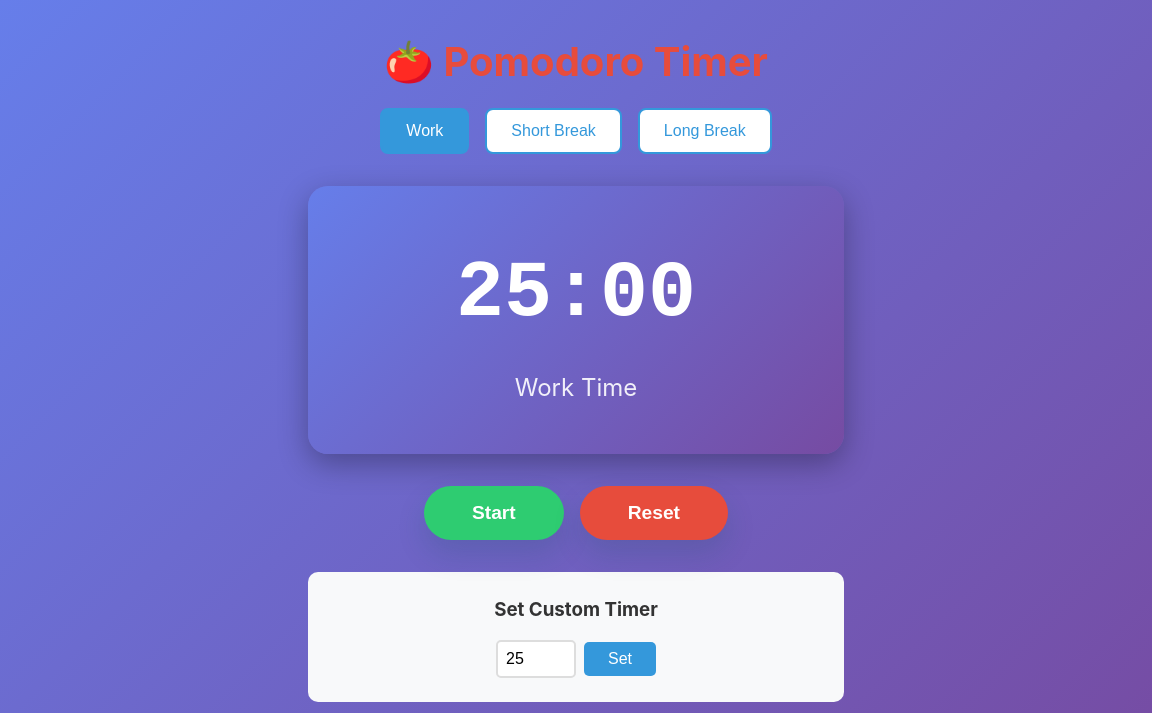
Test: PomodoroTimer break reminders › shows break reminder when a work session completes
This screenshot has width=1152, height=713.
Replace the text in the number field with "1". click: [536, 659]
box: [496,640,576,678]
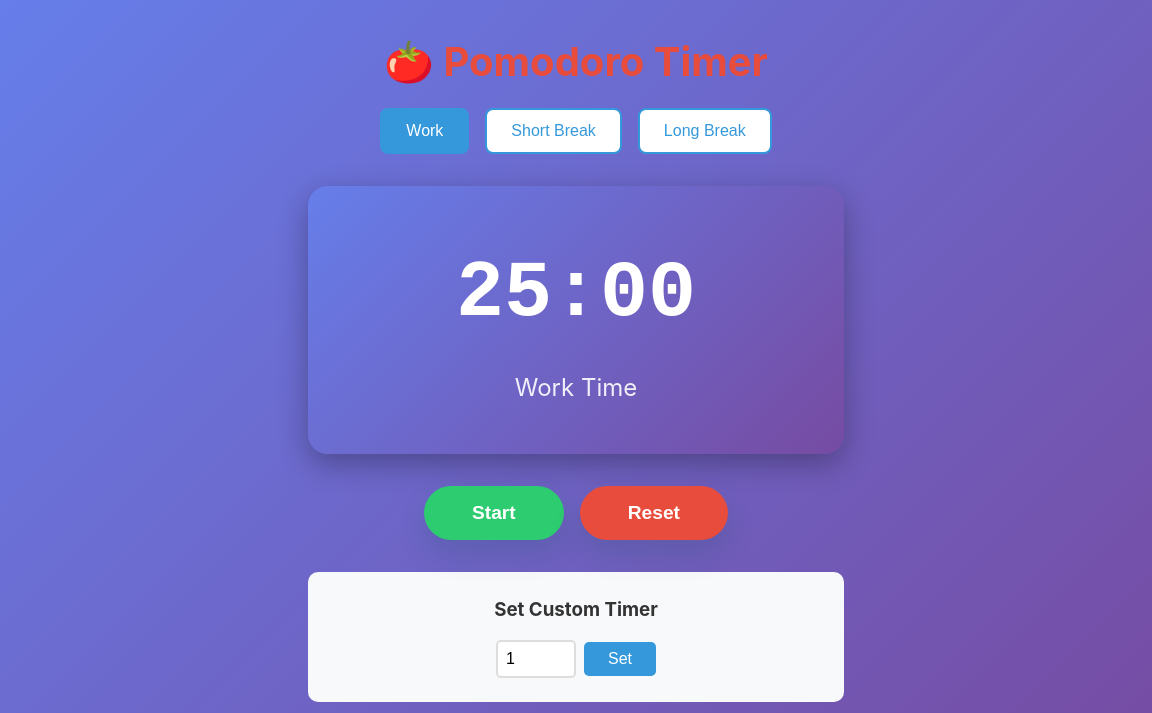
Click the button "Set". click: [620, 659]
box: [584,642,656,676]
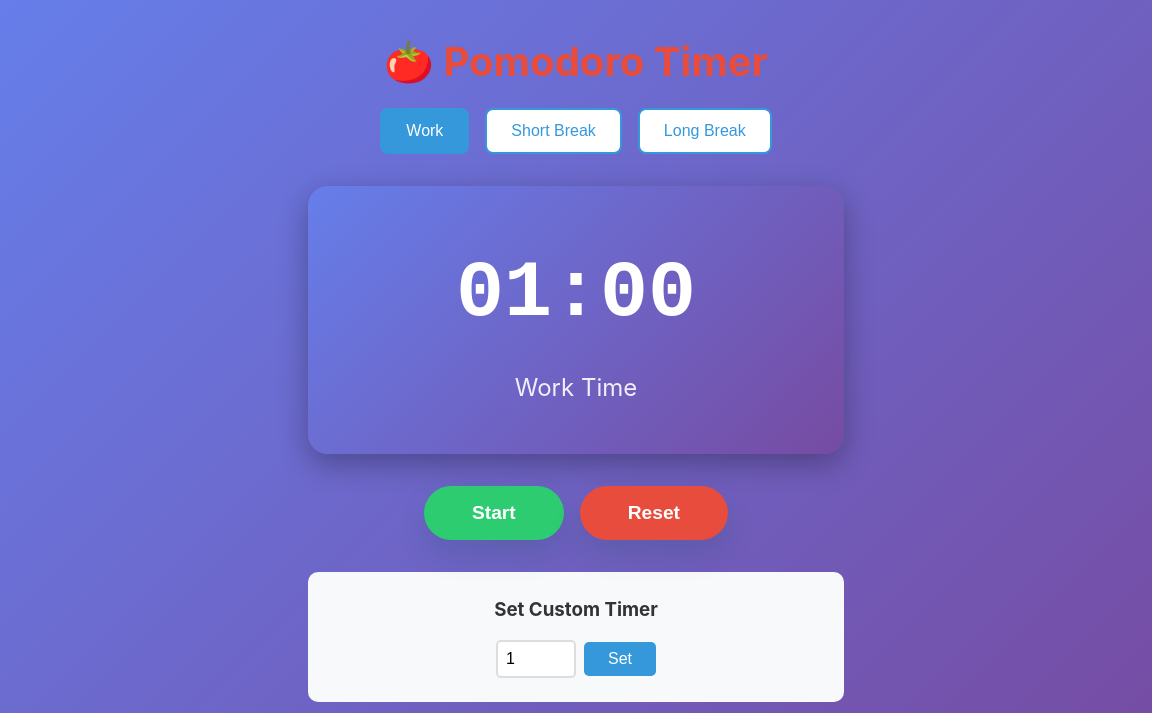
Click the button "Start". click: [494, 513]
box: [424,486,564,540]
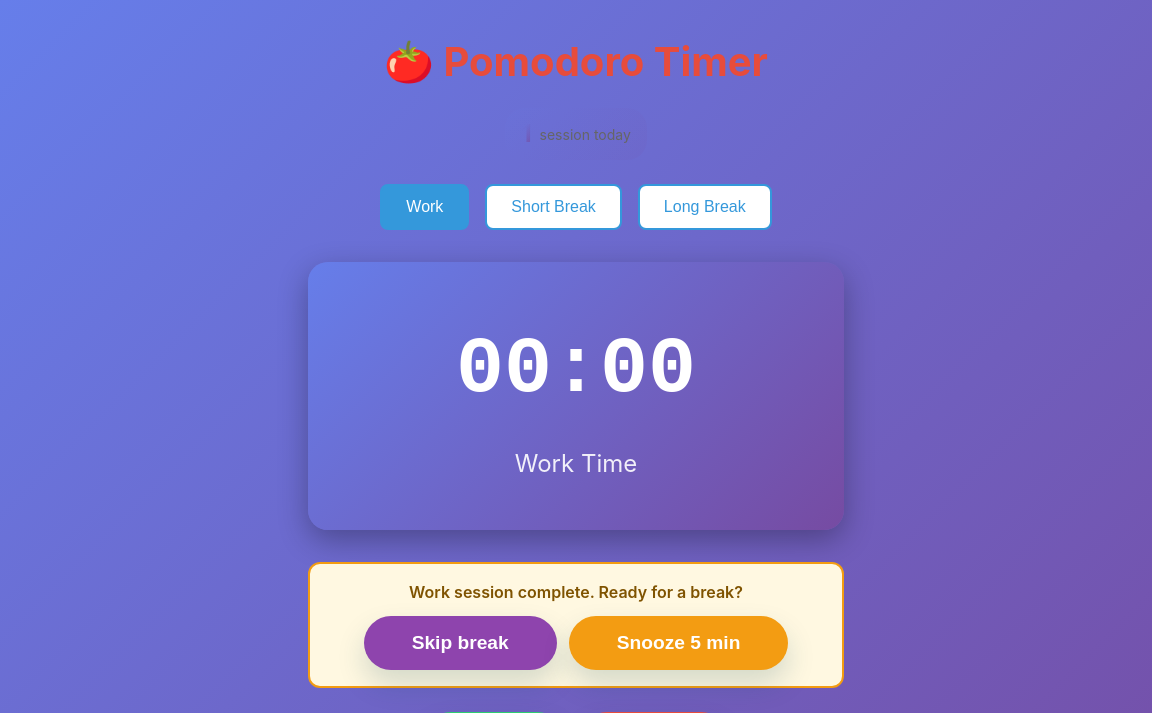
Expected: the text "Work session complete. Ready for a break?" is shown, [409,582,743,602]
